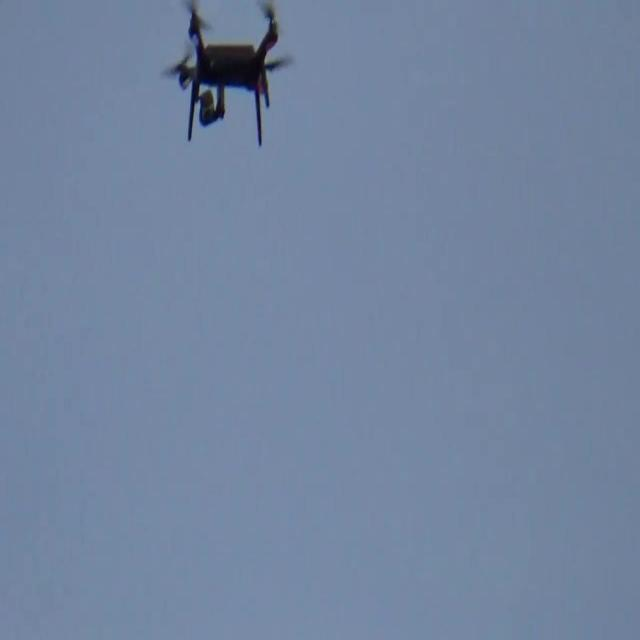UAV: (159, 0, 295, 148)
